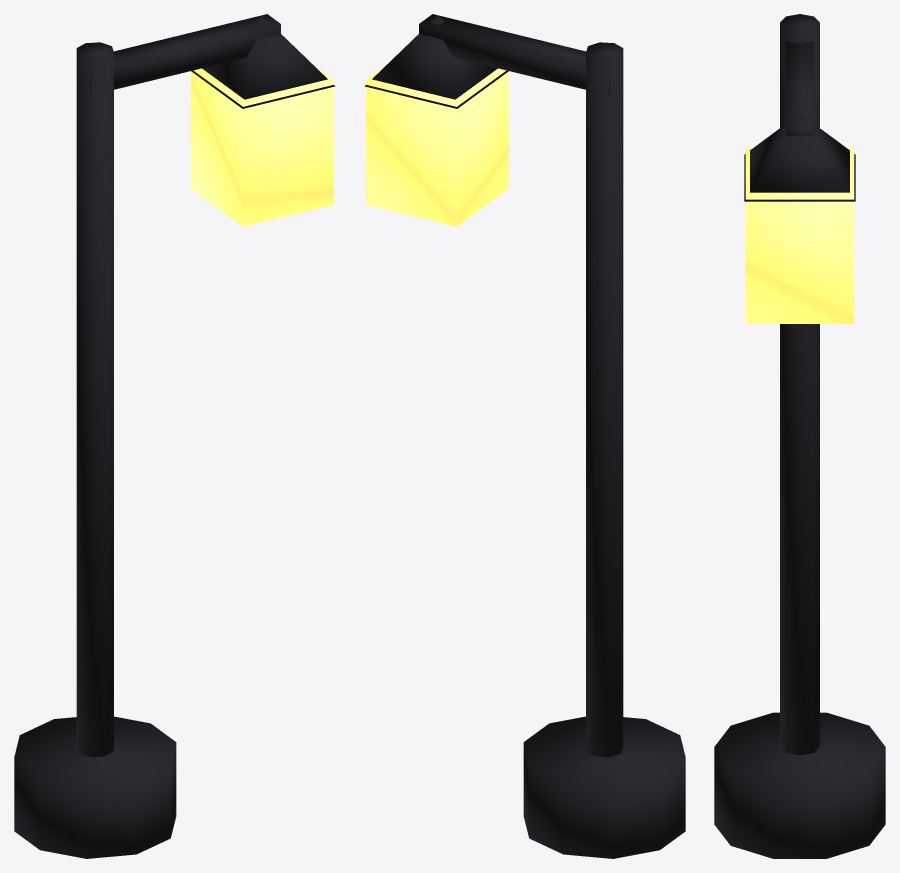
File: lamp.glb
The picture shows the model from 3 angles, left to right: view 1: azimuth 30°, elevation 25°; view 2: azimuth 150°, elevation 25°; view 3: azimuth 270°, elevation 25°; orthographic projection. The views are drawn at different scales.
Visible parts, largest first — view 1: lamp; view 2: lamp; view 3: lamp.
Part boxes in pixels (x1,y1,x2,y2): lamp: (14,14,335,858); lamp: (364,14,685,858); lamp: (714,14,885,858).
Size of the model in its own units: 1.18 by 3.1 by 0.6.
